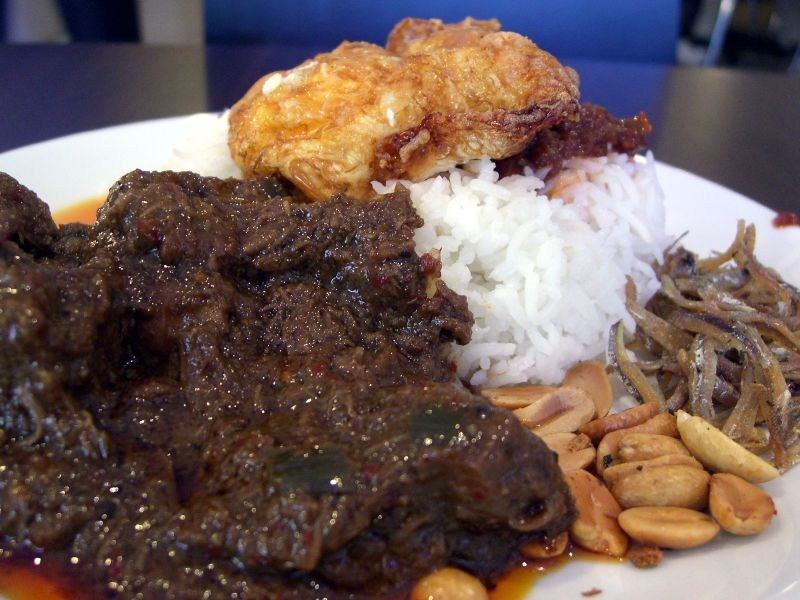Rendang: (67, 34, 763, 556)
